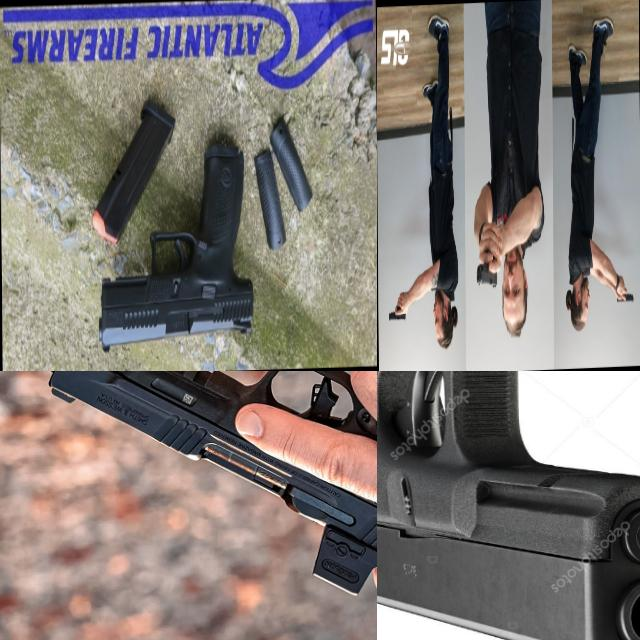handgun: (11, 371, 377, 604), (377, 371, 640, 640), (93, 137, 256, 354), (475, 240, 498, 293), (615, 277, 634, 307), (387, 296, 406, 324)
